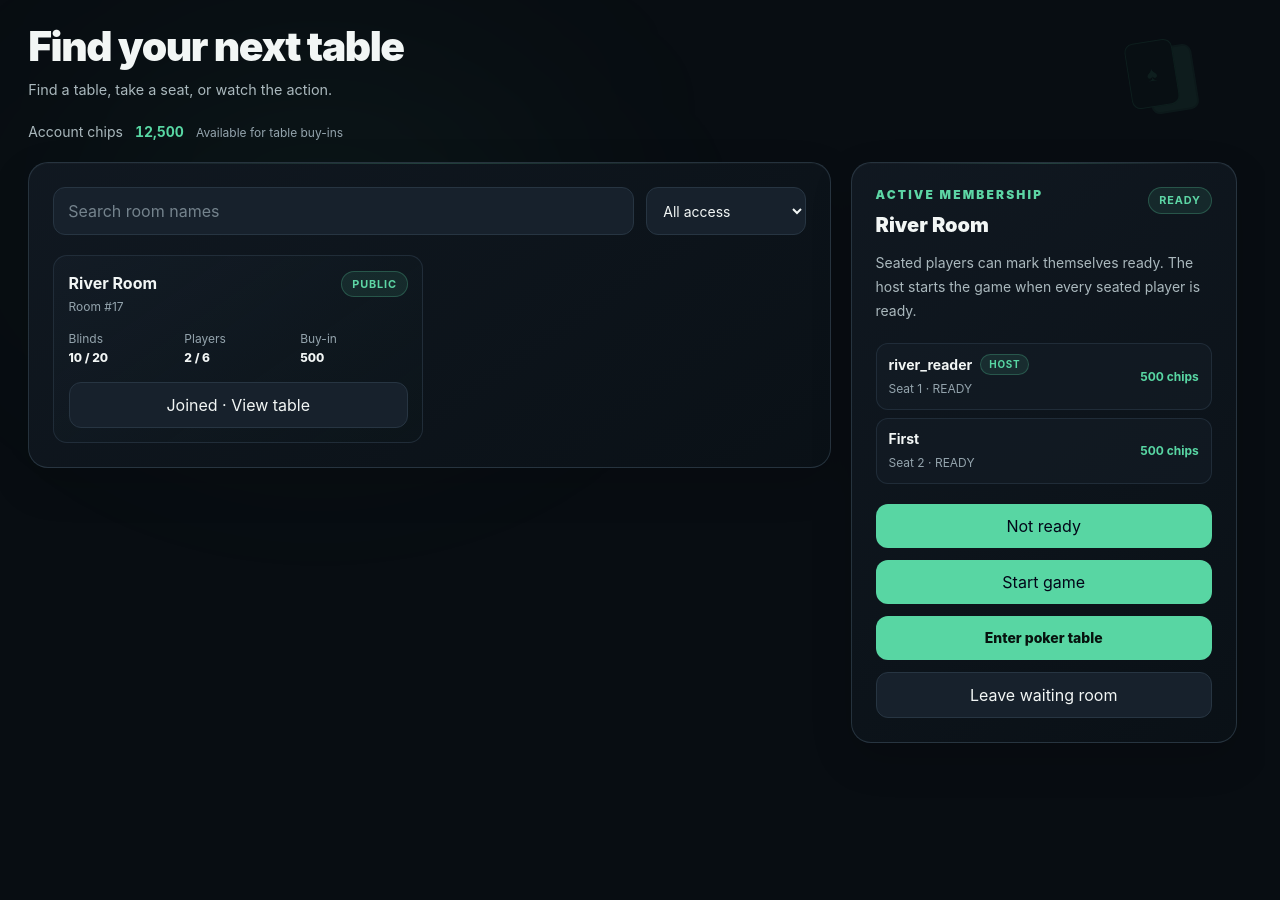
Scenario: RoomsPage membership restoration › keeps the host in the waiting room and shows an authoritative start rejection
This screenshot has width=1280, height=900.
Click the button "Start game" at (1044, 582), box [876,560,1212,604]
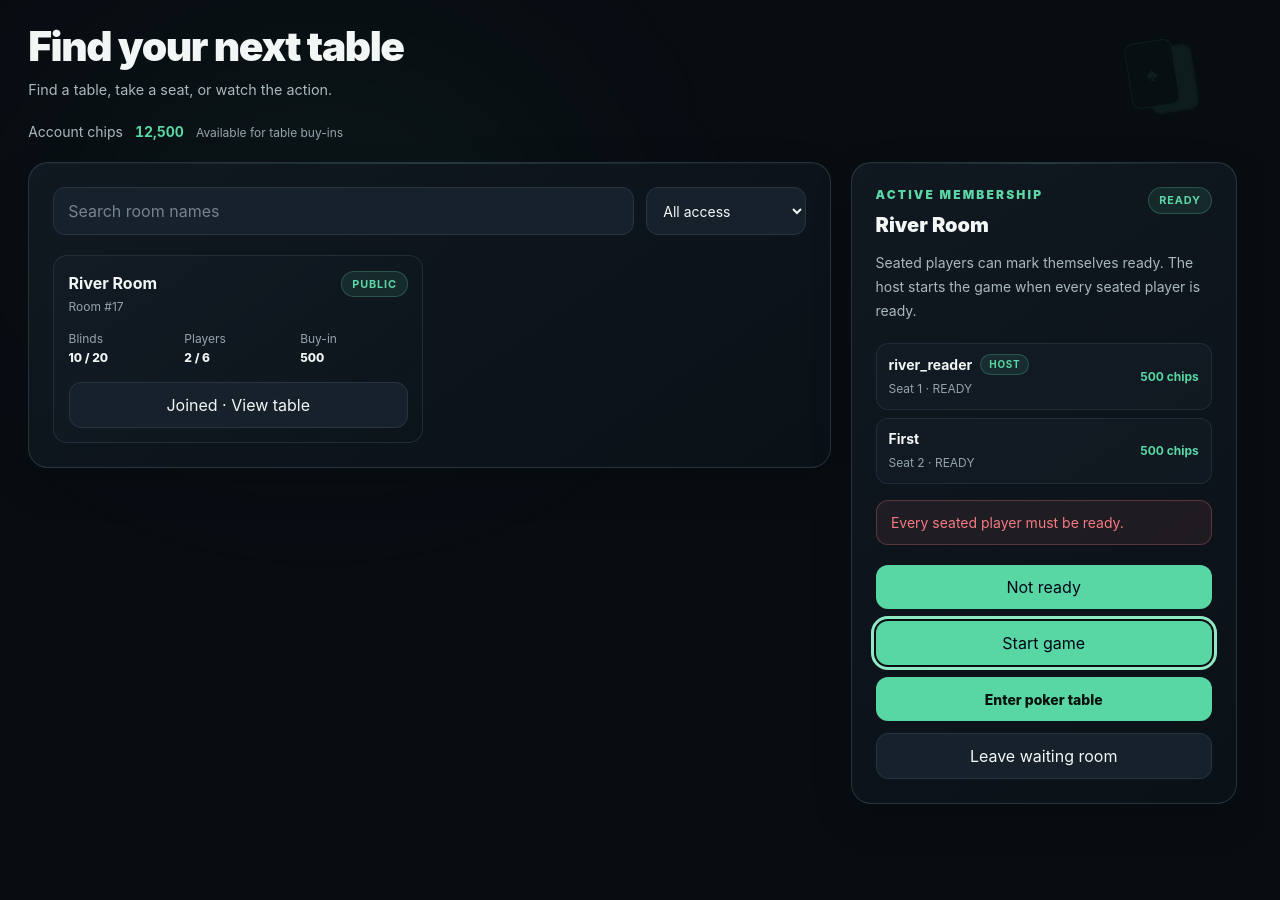
Expected: the text "Active membership" is shown, [876,188,1043,204]
Now the message reads "Every seated player must be ready.", box [891,514,1124,531]
